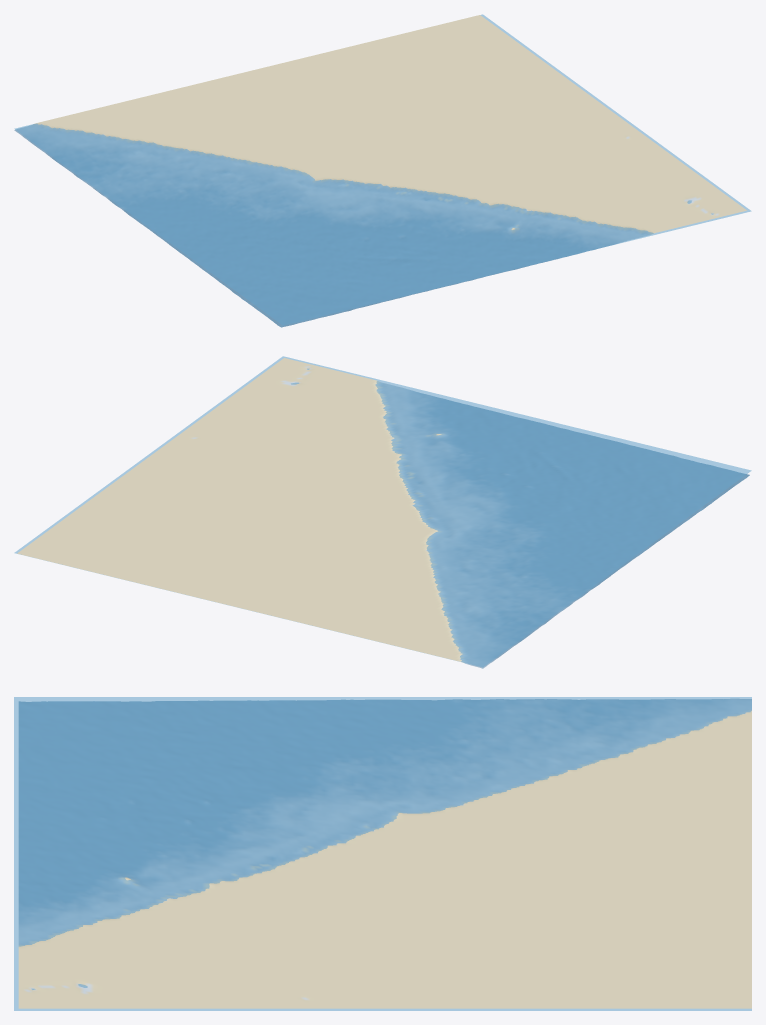
Rendered from venice-beach-ca.glb.
The picture shows the model from 3 angles, top to bottom: view 1: azimuth 30°, elevation 25°; view 2: azimuth 150°, elevation 25°; view 3: azimuth 270°, elevation 25°; orthographic projection. The views are drawn at different scales.
Visible parts, largest first — view 1: terrain, water; view 2: terrain, water; view 3: terrain, water.
Part boxes in pixels (x1,y1,x2,y2): terrain: (14,15,746,327); water: (14,14,751,325); terrain: (17,358,749,668); water: (14,356,751,667); terrain: (18,698,751,1008); water: (14,697,751,1010).
Bounding box in the file's own units: 3160 × 24.68 × 3140.
